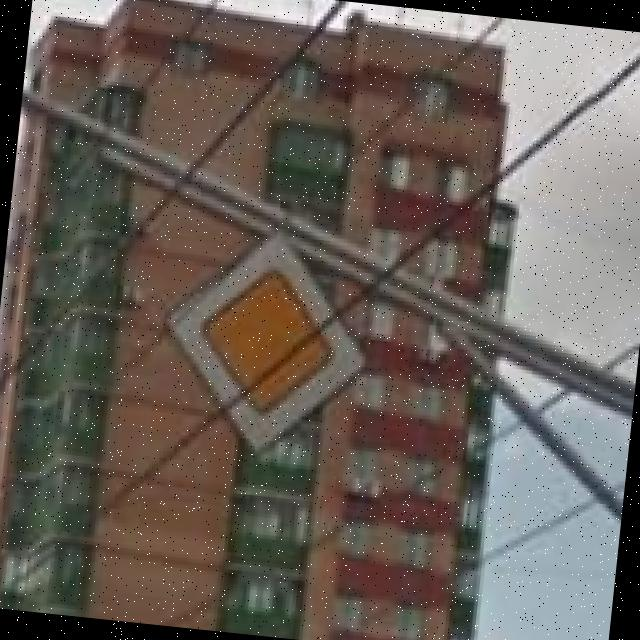Droga z pierwszenstwem: (146, 214, 384, 472)
